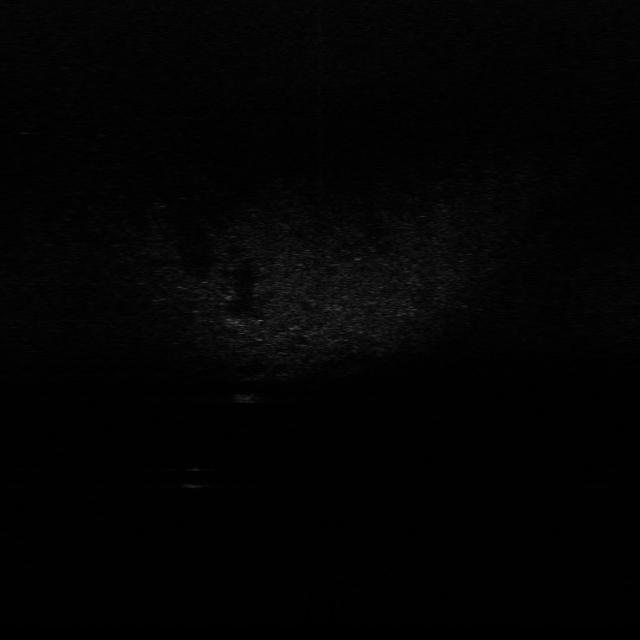ball: (176, 465, 220, 489)
cube: (232, 386, 266, 405)
